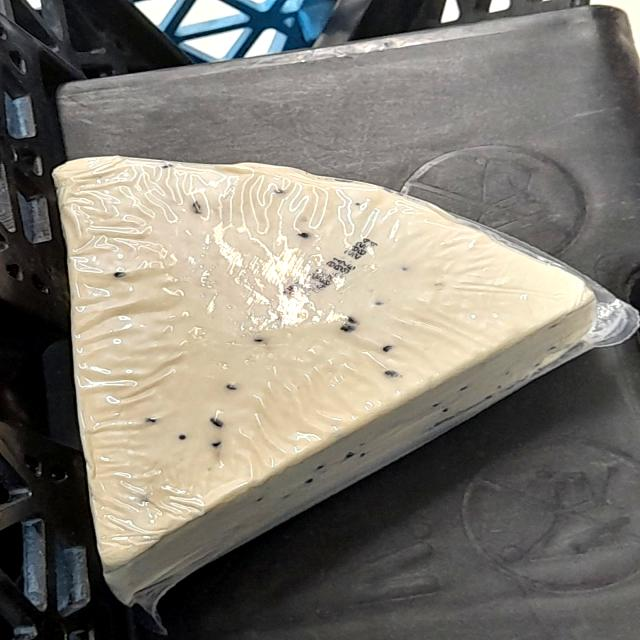cheese: (46, 151, 626, 607)
